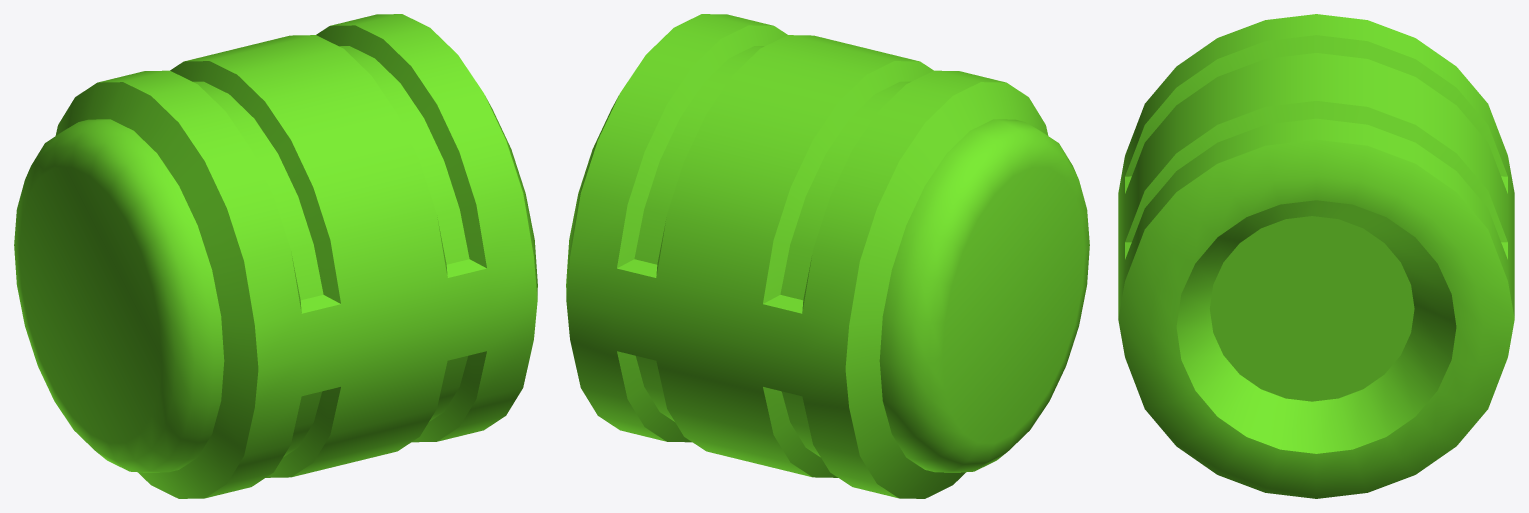
The picture shows the model from 3 angles, left to right: view 1: azimuth 30°, elevation 25°; view 2: azimuth 150°, elevation 25°; view 3: azimuth 270°, elevation 25°; orthographic projection. The views are drawn at different scales.
Visible parts, largest first — view 1: Tube Segment; view 2: Tube Segment; view 3: Tube Segment.
Boxes of the visible parts, x1,y1,x2,y2 form: Tube Segment: (14, 14, 537, 498); Tube Segment: (566, 14, 1089, 498); Tube Segment: (1118, 14, 1514, 498).
Bounding box in the file's own units: 37.47 × 39.06 × 39.06.
